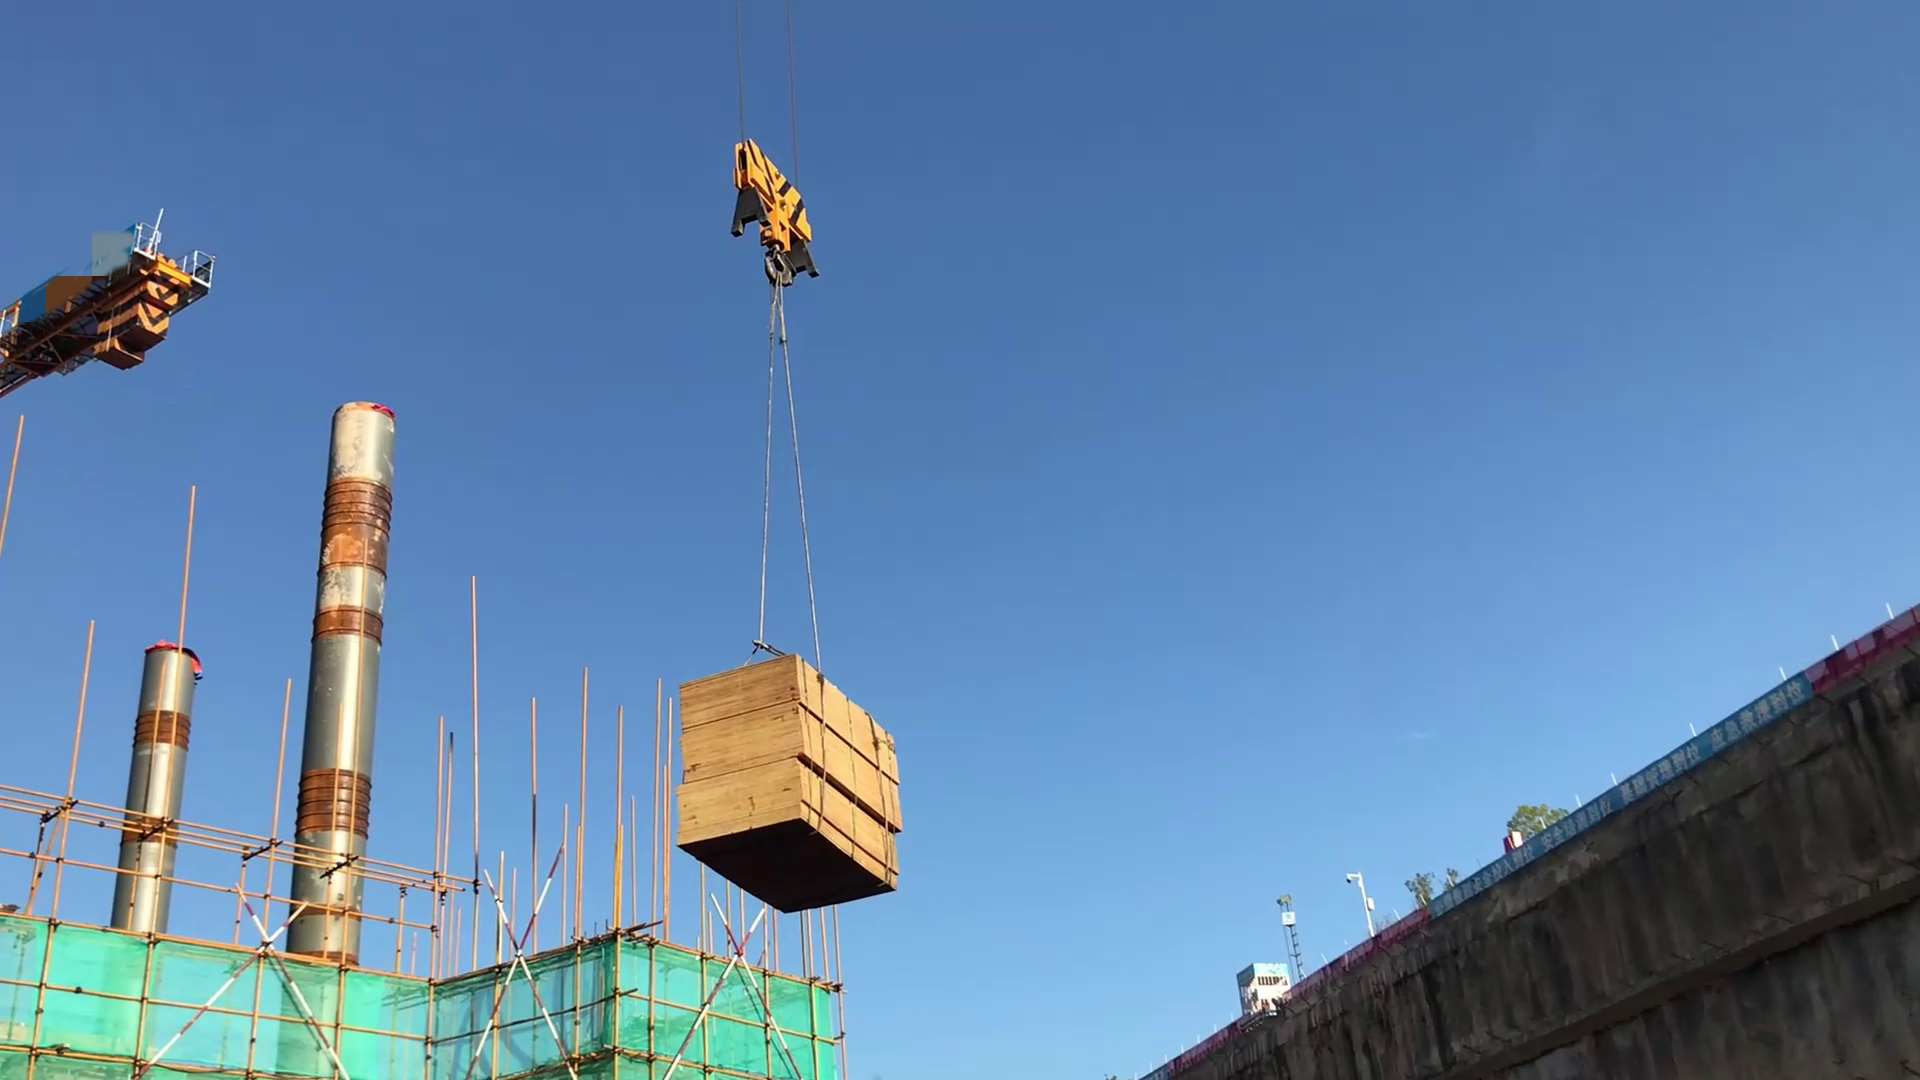board: (659, 655, 920, 926)
hook: (704, 127, 855, 431)
slogan: (1429, 659, 1816, 926)
